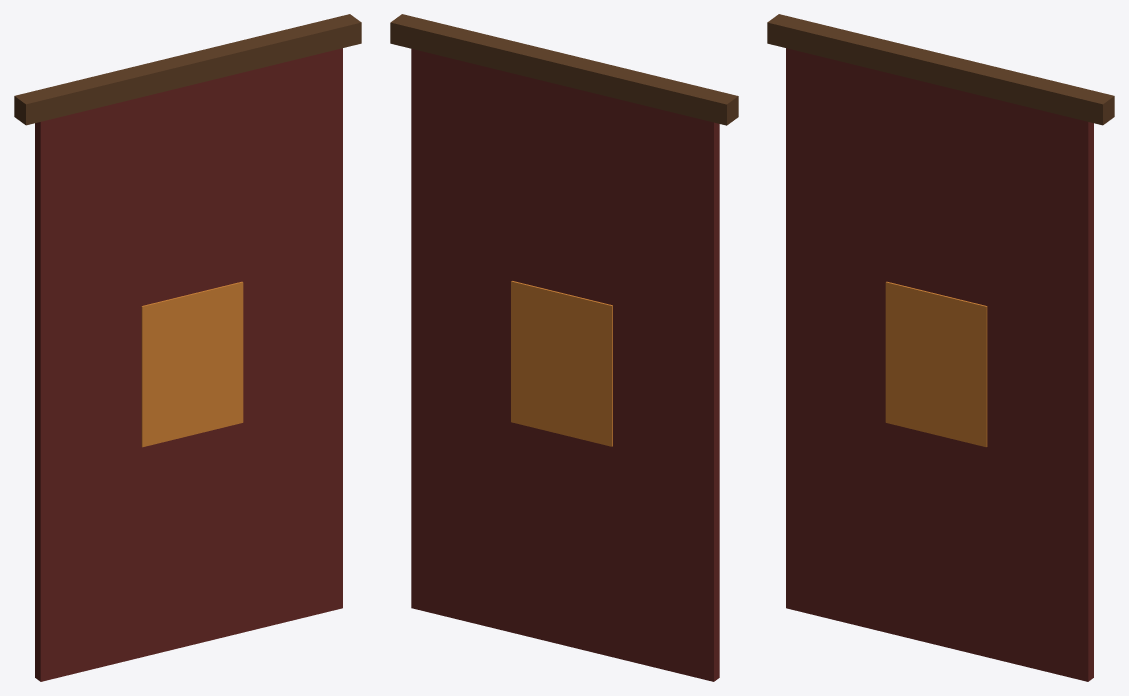
Rendered from cantina_banner.glb.
The picture shows the model from 3 angles, left to right: view 1: azimuth 30°, elevation 25°; view 2: azimuth 150°, elevation 25°; view 3: azimuth 330°, elevation 25°; orthographic projection.
Parts seen in each view (by area): view 1: sw5e_int_cantina_banner; view 2: sw5e_int_cantina_banner; view 3: sw5e_int_cantina_banner.
Part boxes in pixels (x1,y1,x2,y2): sw5e_int_cantina_banner: (14,14,361,681); sw5e_int_cantina_banner: (390,14,738,681); sw5e_int_cantina_banner: (767,14,1114,681).
Size of the model in its own units: 1 by 1.66 by 0.06.
